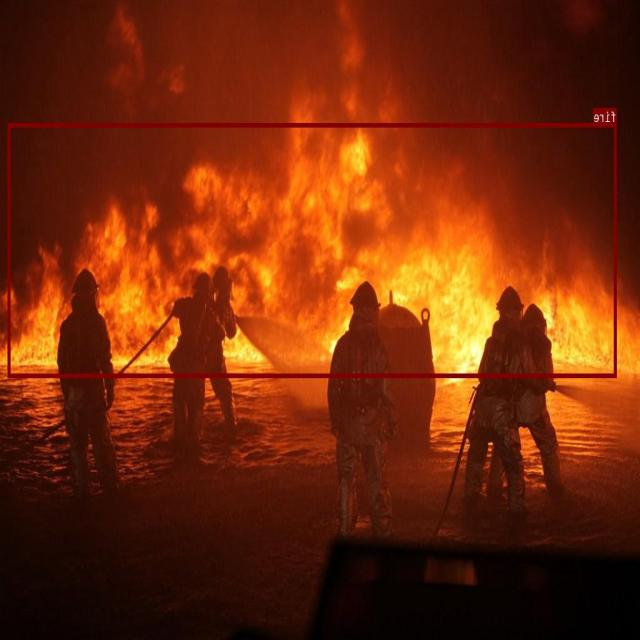fire: (9, 123, 617, 377)
